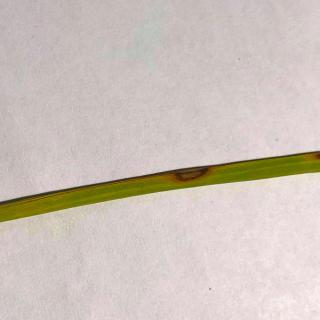Blast: (175, 167, 208, 184)
